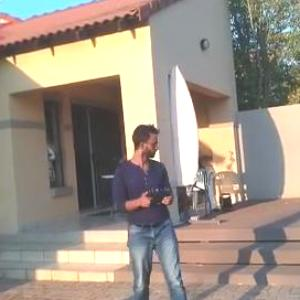follow: (108, 119, 196, 299)
